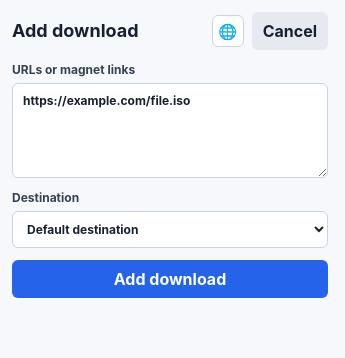
it: App › shows browser link creation failure briefly before closing the popup
Step 1. Click the button "Add download" → (170, 279), box [12,260,328,298]
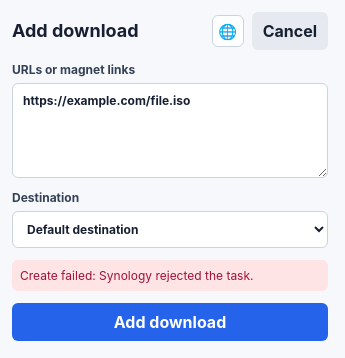
Now the text "Create failed: Synology rejected the task." is shown, box [12,260,328,291]
